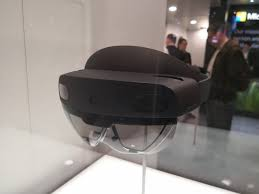hololens: (56, 50, 213, 157)
